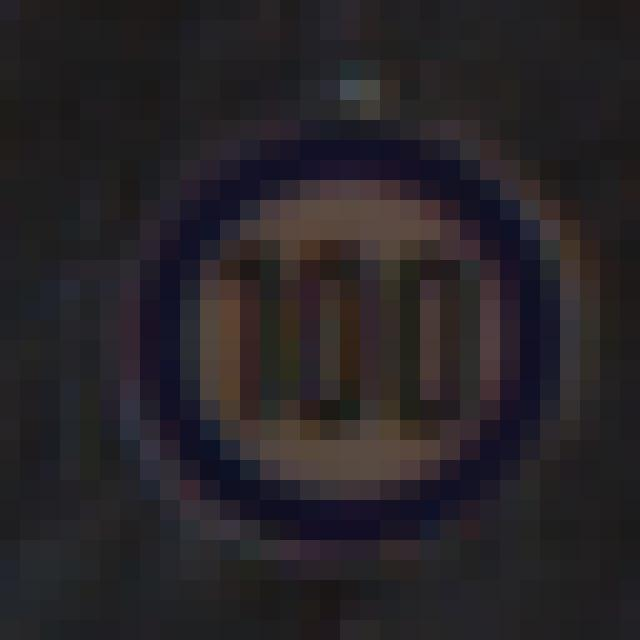SPEED LIMIT 100: (128, 127, 566, 558)
